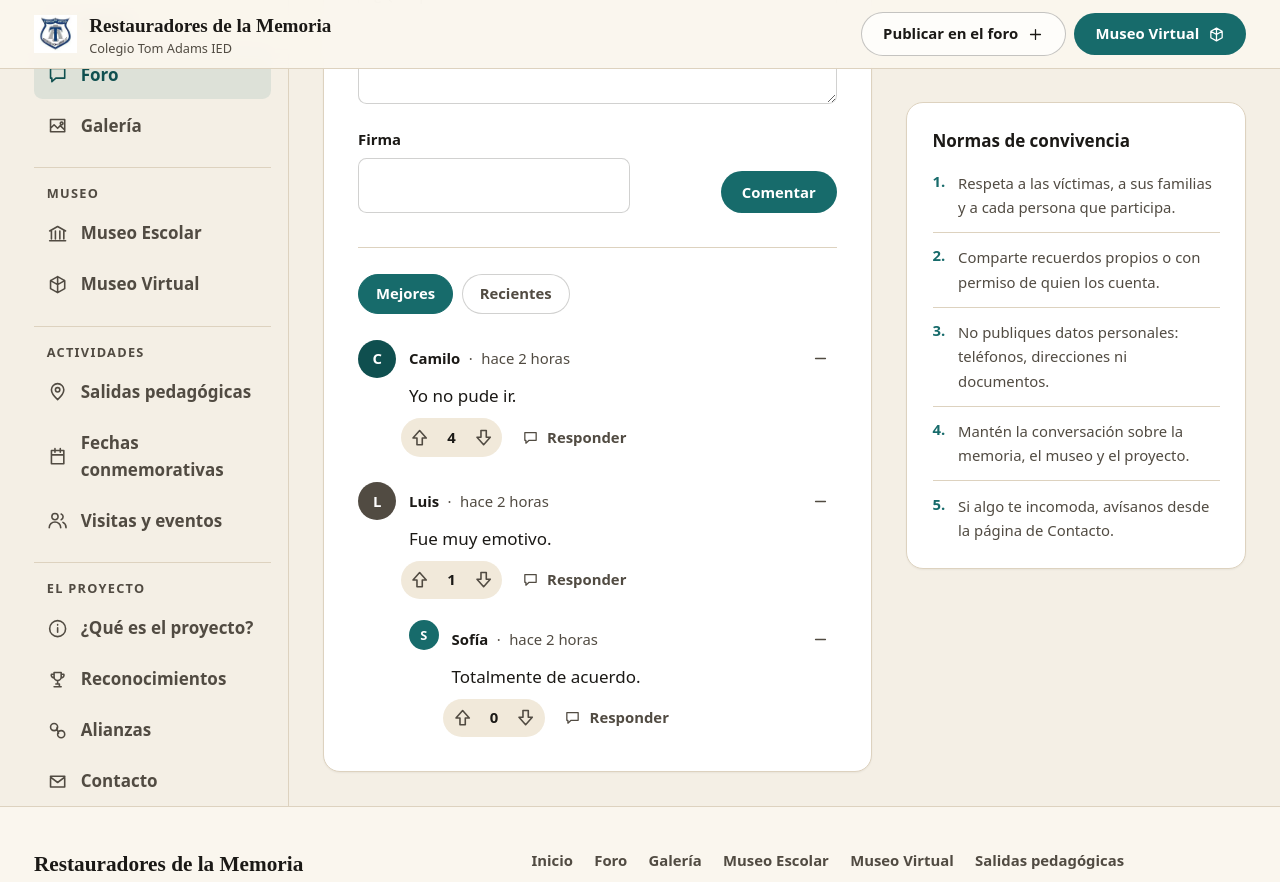
Test: Foro: publicación y comentarios › contrae un hilo y avisa cuántas respuestas oculta
(page scrolled)
Click the button named "Ocultar el comentario de Luis" in the row of "Luis". click: (820, 501)
box: [803, 484, 837, 518]
(page scrolled)
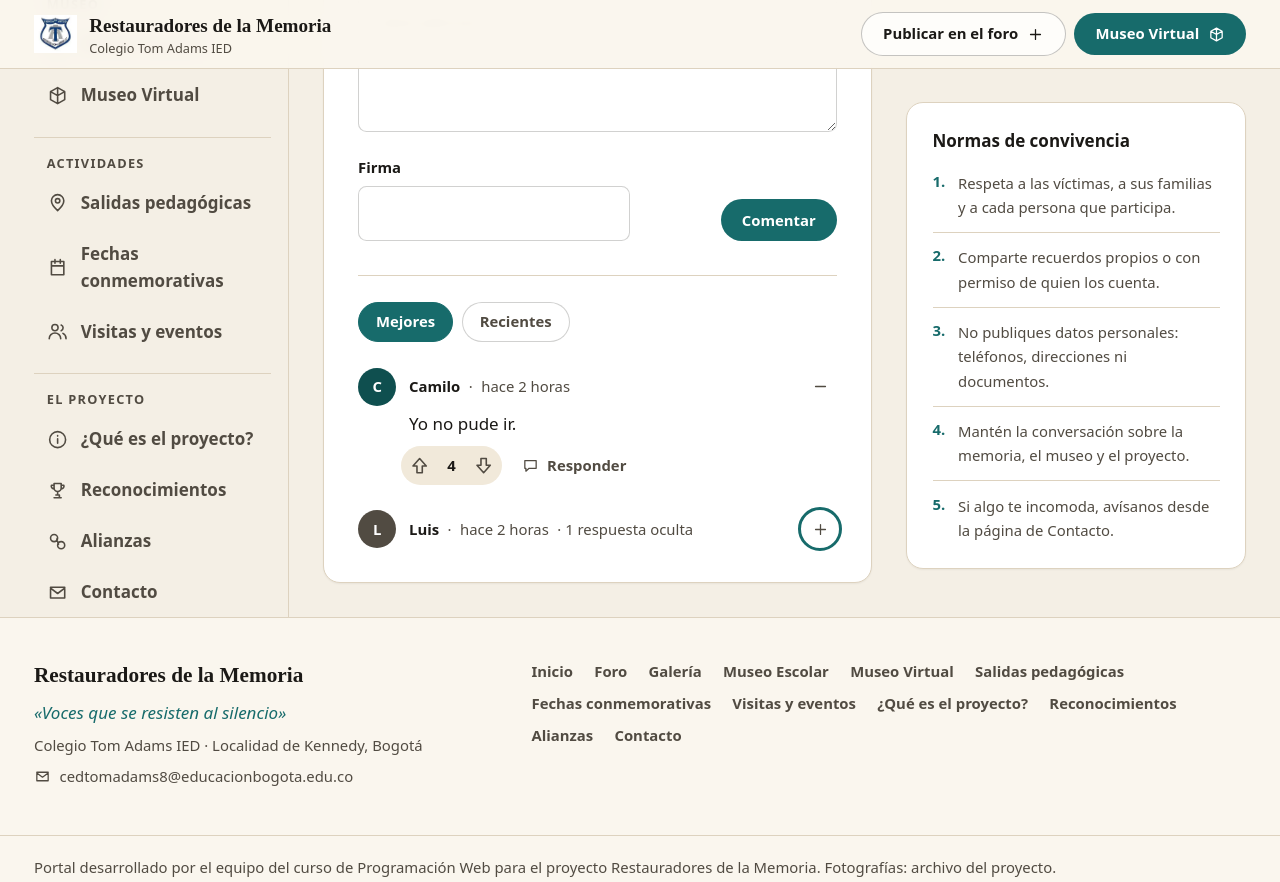
Now the text "Totalmente de acuerdo." is gone
Now the text "· 1 respuesta oculta" is shown, box [557, 518, 693, 540]
Now the button named "Mostrar el comentario de Luis" next to "1 respuesta oculta" is collapsed, box [803, 512, 837, 546]
